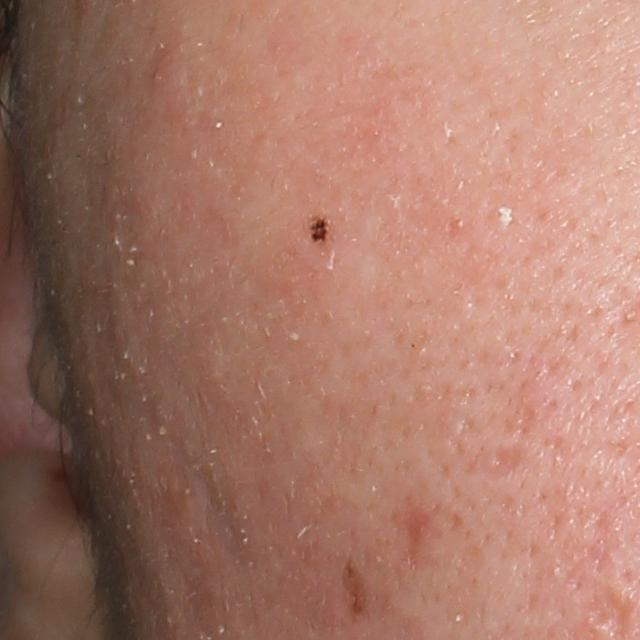atrophic_scar: (187, 448, 257, 577), (395, 493, 435, 574), (475, 438, 527, 483)
comedo: (487, 199, 513, 227)
